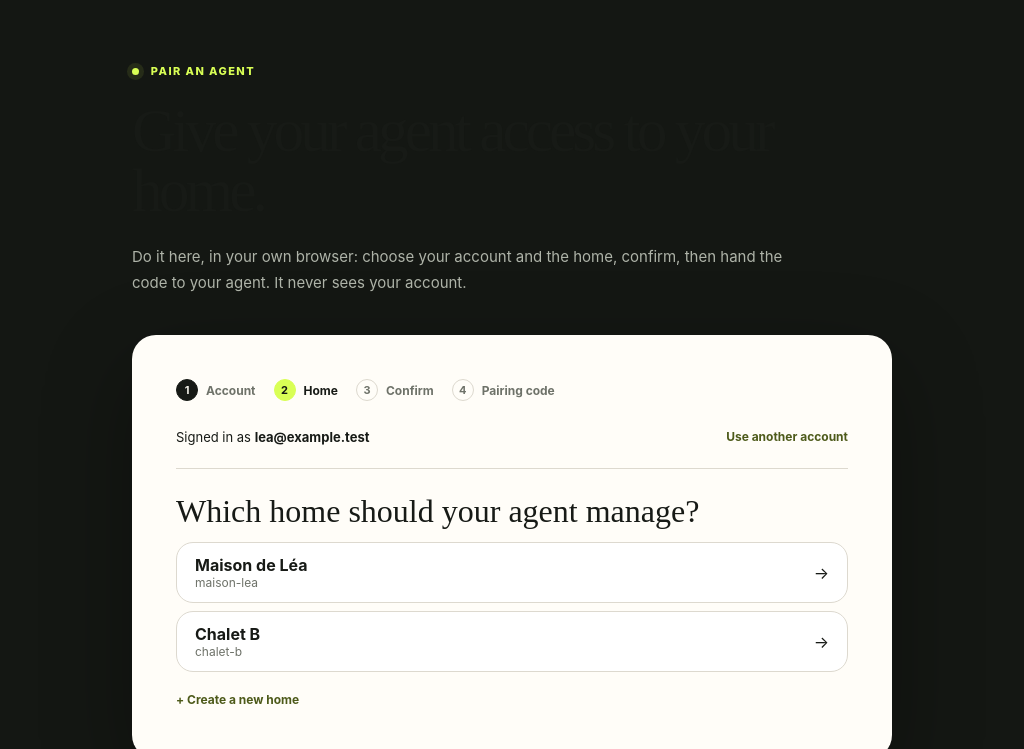
agent pairing page › does not display a delayed code for A under the name of home B
Click the button "Maison de Léa maison-lea →": click(251, 565) [176, 542, 848, 603]
(page scrolled)
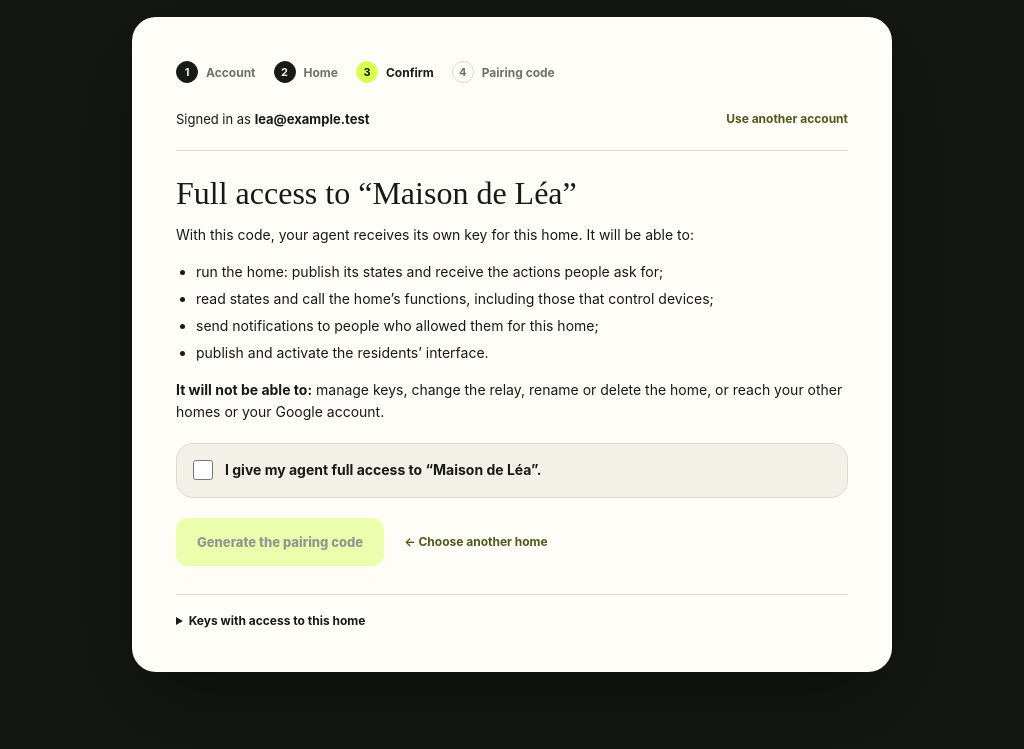
Click the checkbox: click(203, 470) [193, 460, 213, 480]
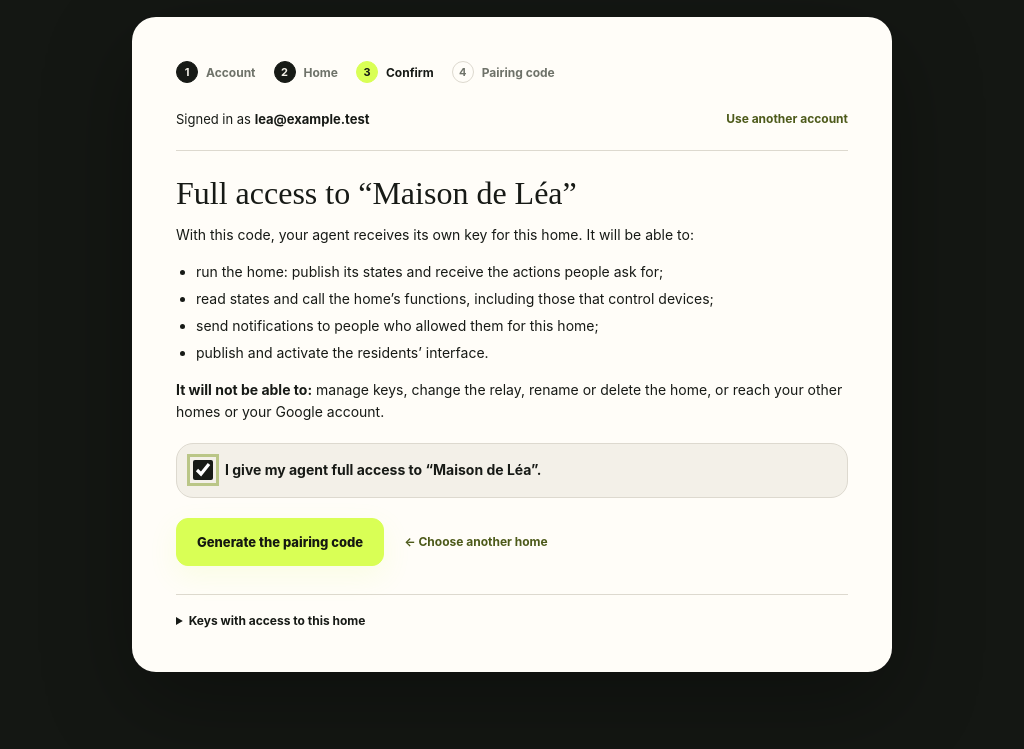
Click the button "Generate the pairing code": click(280, 542) [176, 518, 384, 566]
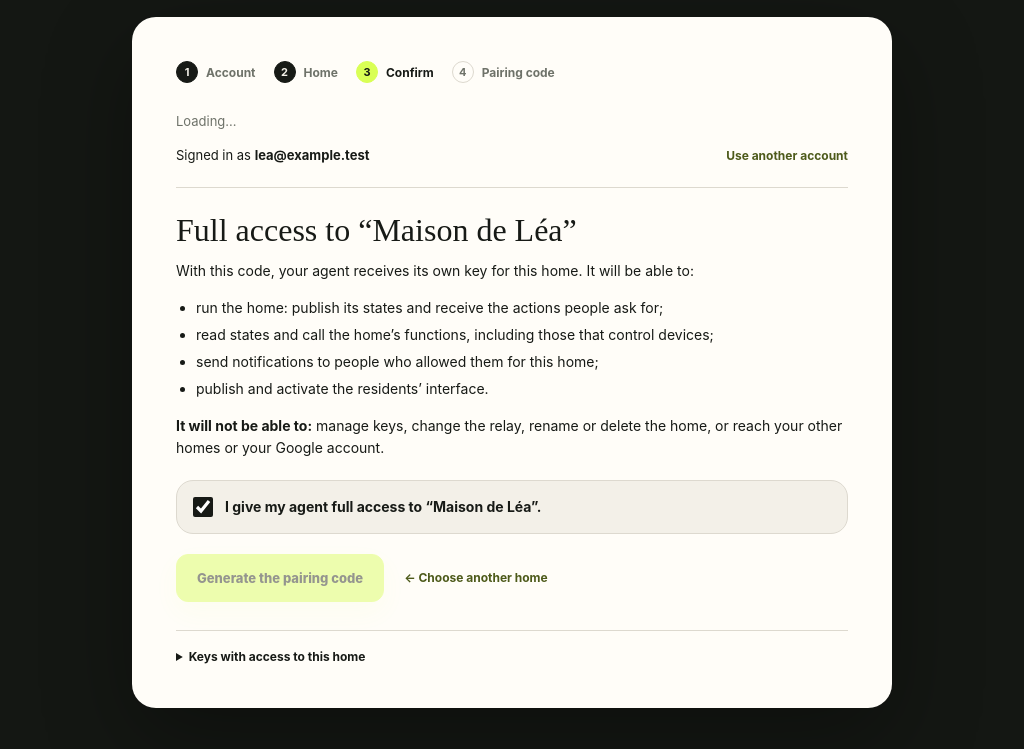
Click the button "← Choose another home": click(476, 578) [404, 562, 548, 593]
(page scrolled)
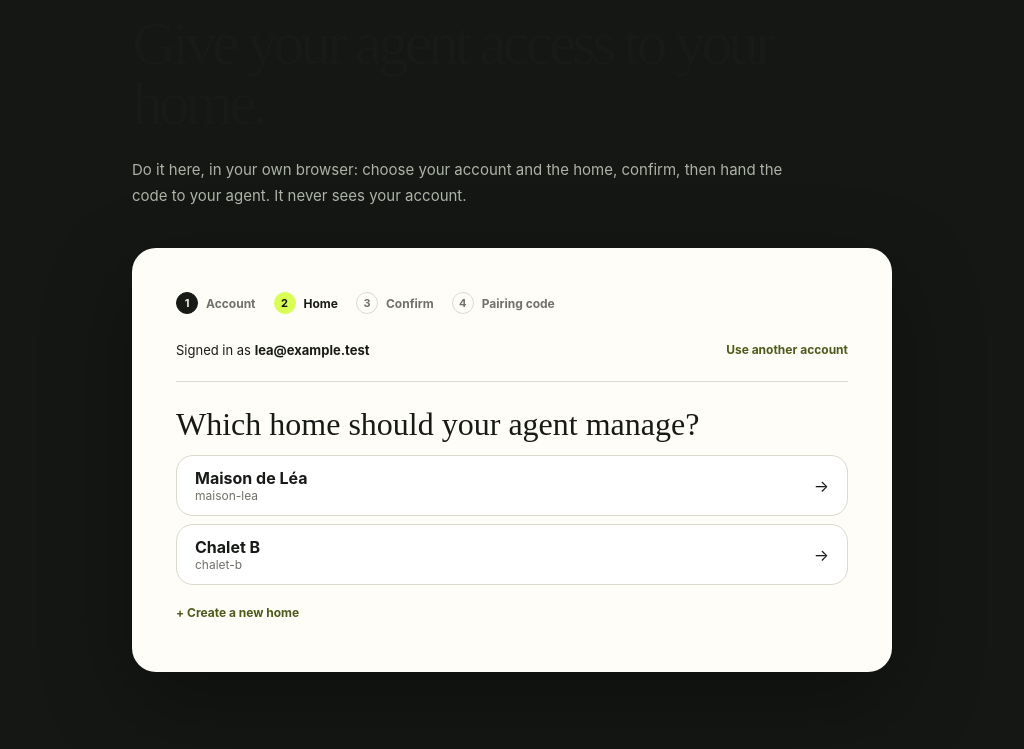
Click the button "Chalet B chalet-b →": click(228, 547) [176, 524, 848, 585]
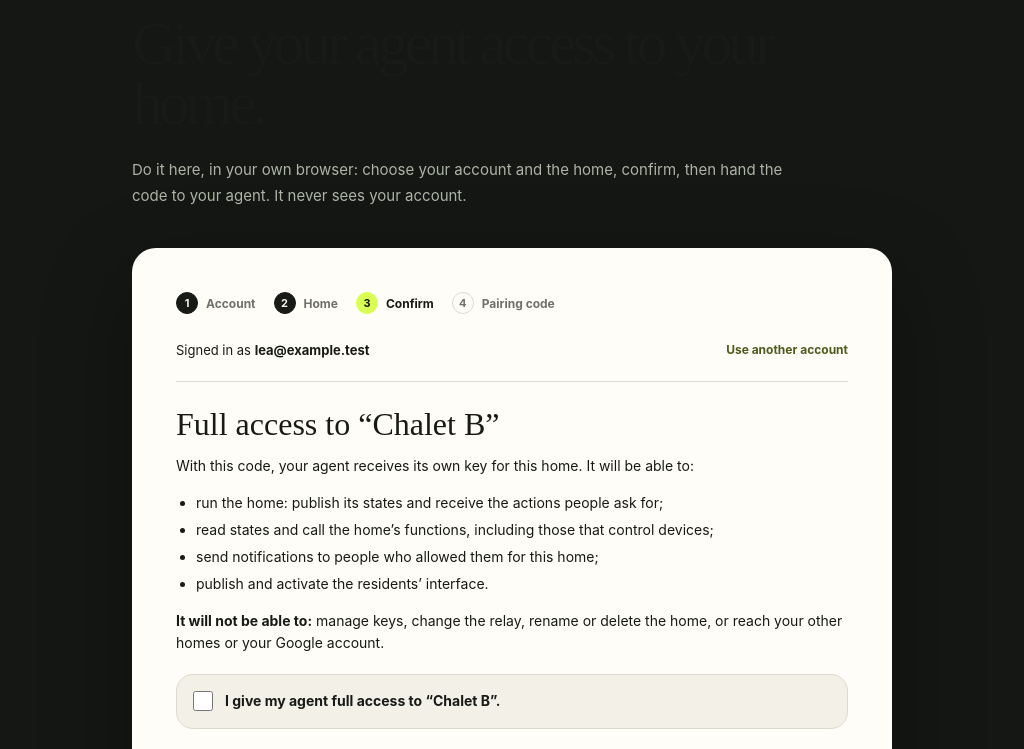
Now the heading "Full access to “Chalet B”" is shown, box [176, 406, 500, 442]
Now the checkbox is not checked, box [193, 691, 213, 711]
